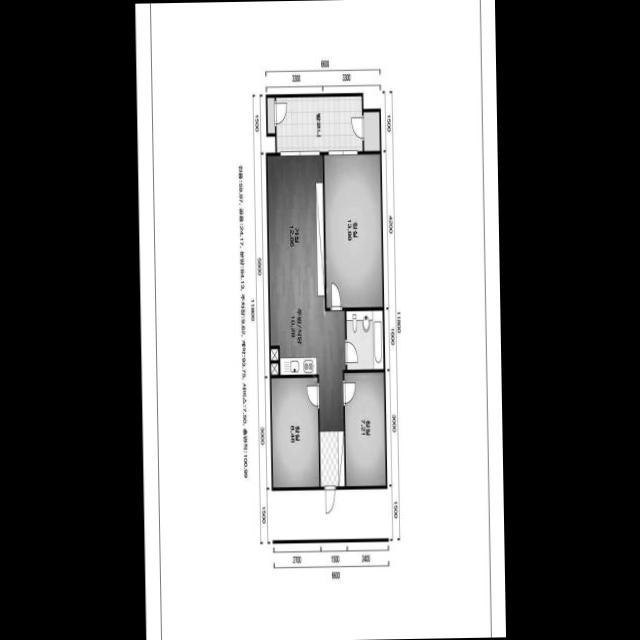background: (134, 0, 506, 640)
space_balconi: (275, 96, 362, 152)
space_bedroom: (323, 154, 382, 307), (271, 377, 318, 487), (344, 372, 385, 486)
space_front: (319, 431, 344, 486)
space_kitchen: (269, 311, 318, 375)
space_living_room: (267, 155, 345, 431)
space_other: (363, 112, 379, 151), (267, 98, 274, 133), (270, 349, 278, 360), (270, 363, 278, 374)
space_toilet: (346, 310, 383, 369)
